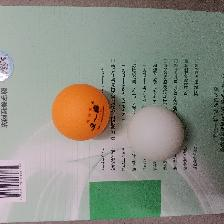WhiteBall: (126, 105, 184, 161)
YellowBall: (50, 82, 110, 142)
